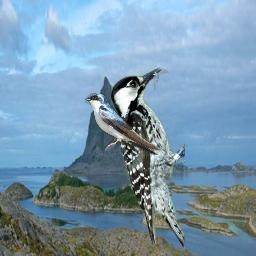Swallow: (85, 93, 160, 155)
Woodpecker: (110, 67, 185, 250)
